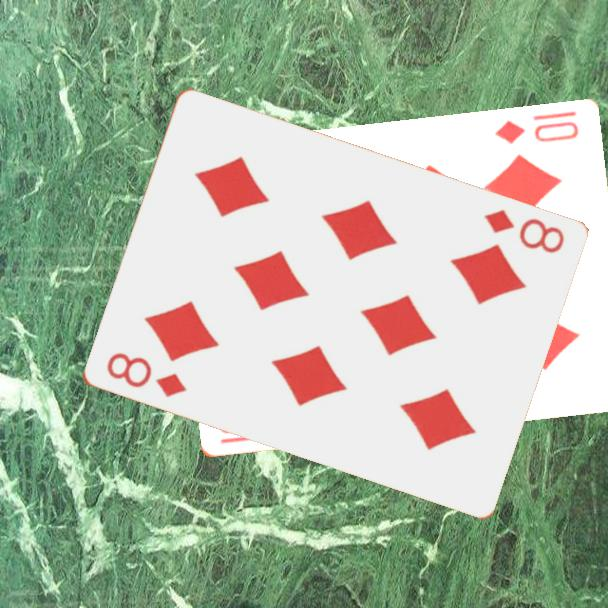d08: (102, 349, 189, 401), (479, 206, 567, 257)
d10: (491, 108, 581, 148)
